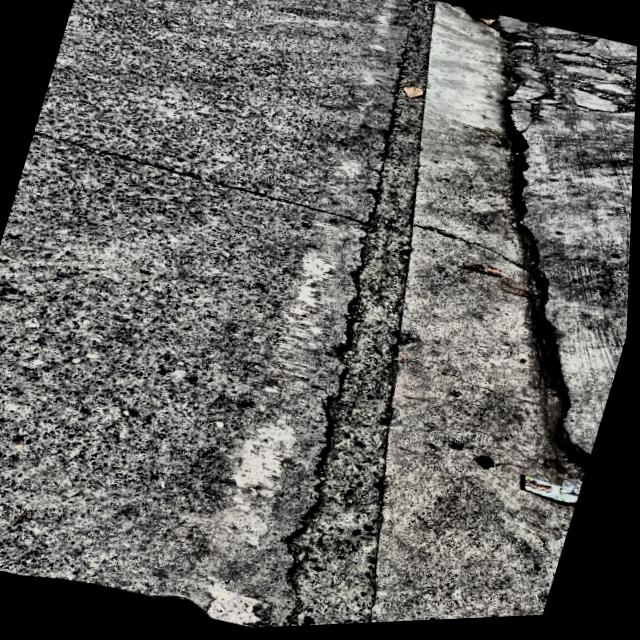no_or_faded_road_markings: (198, 0, 426, 608)
